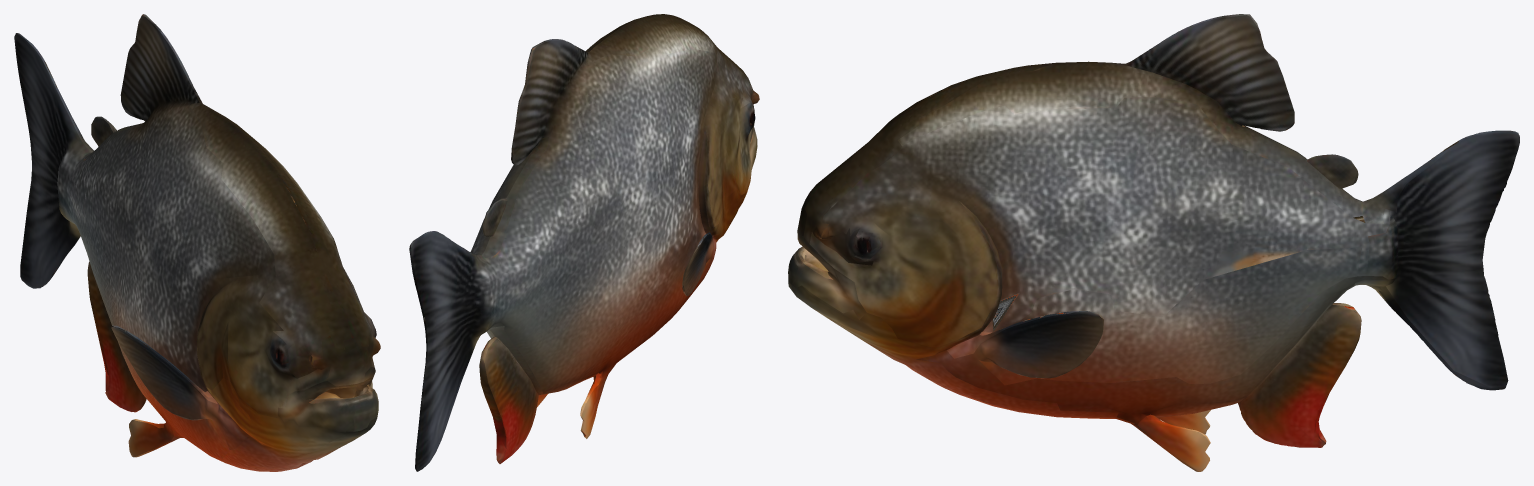
Rendered from pirana.glb.
The picture shows the model from 3 angles, left to right: view 1: azimuth 30°, elevation 25°; view 2: azimuth 150°, elevation 25°; view 3: azimuth 270°, elevation 25°; orthographic projection. The views are drawn at different scales.
Parts seen in each view (by area): view 1: world; view 2: world; view 3: world.
Part boxes in pixels (x1,y1,x2,y2): world: (14, 14, 380, 471); world: (409, 14, 759, 471); world: (788, 14, 1519, 471).
Size of the model in its own units: 0.3423 by 0.6665 by 1.
1 material, 1 textured.
